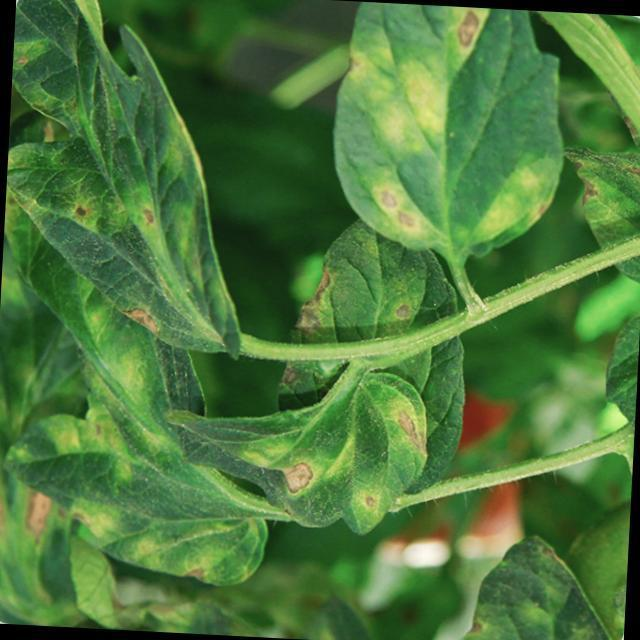Mosaic Virus: (0, 0, 255, 348), (345, 1, 571, 238), (0, 412, 286, 588), (188, 356, 434, 510)
